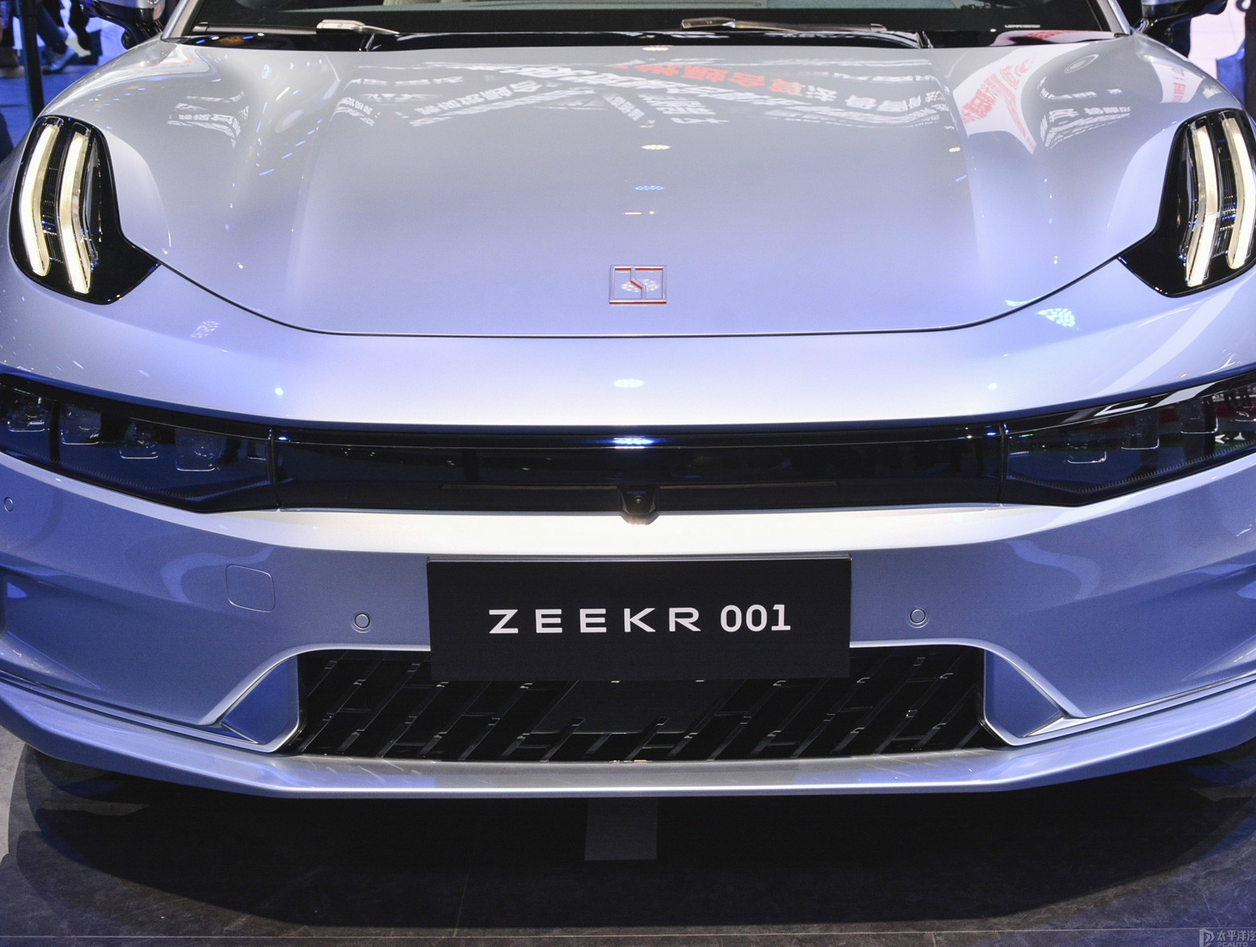ZEEKR: (610, 266, 667, 302)
